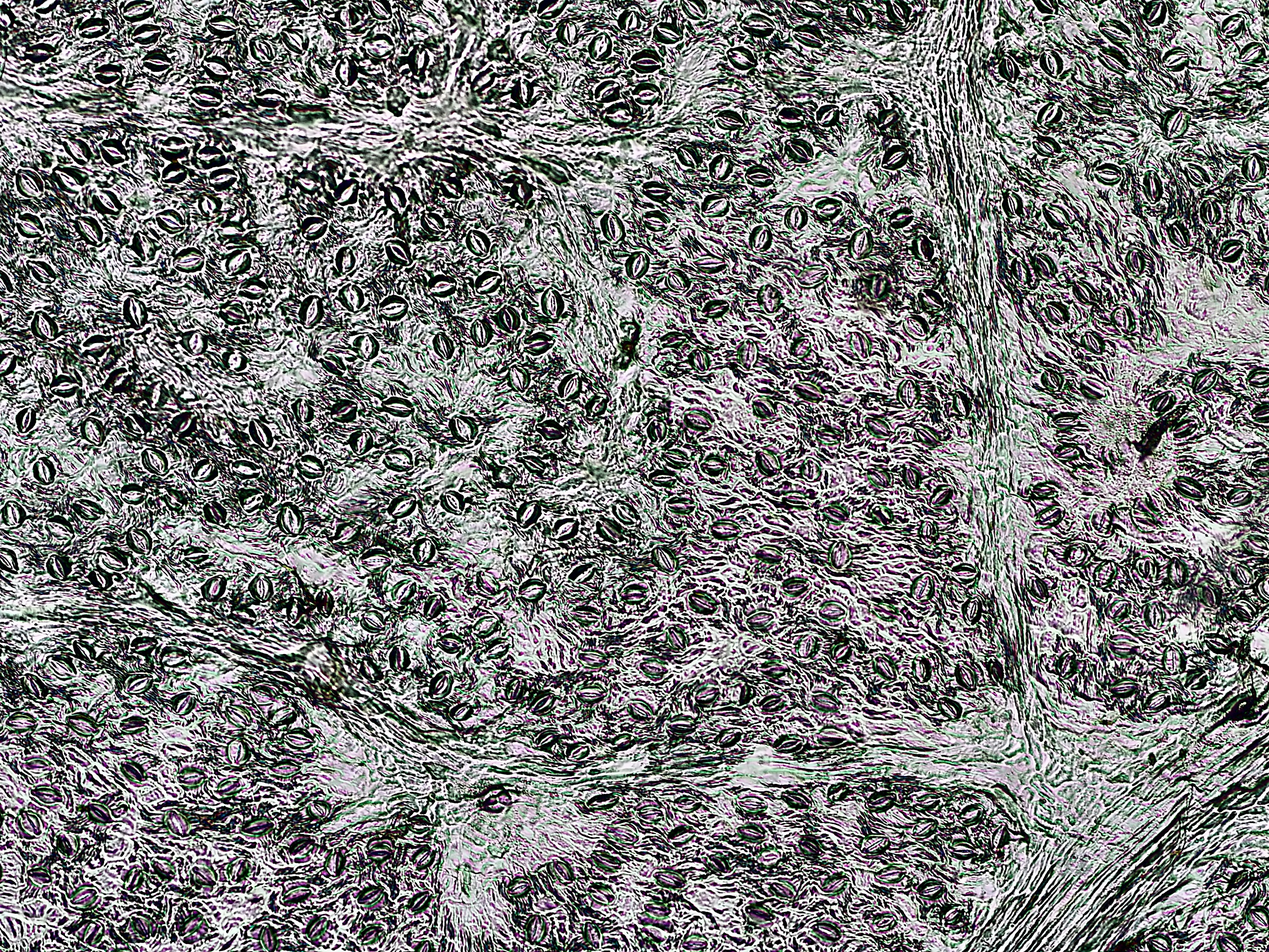stomata: (51, 164, 90, 195), (177, 914, 211, 947), (1171, 472, 1207, 503), (15, 167, 47, 200), (73, 214, 104, 248), (129, 229, 160, 262), (1096, 18, 1135, 44), (89, 61, 128, 87), (169, 246, 205, 274), (1023, 573, 1054, 605), (97, 137, 130, 167), (122, 297, 151, 331), (276, 500, 304, 535), (296, 294, 323, 330), (627, 48, 663, 75), (1142, 309, 1168, 346), (1096, 48, 1133, 74), (1041, 201, 1072, 232), (738, 13, 778, 37), (140, 447, 172, 477), (23, 256, 56, 285), (1227, 192, 1254, 227), (357, 548, 393, 574), (95, 545, 131, 571), (755, 282, 786, 312), (383, 239, 415, 268), (15, 211, 47, 240), (790, 380, 827, 405), (790, 25, 827, 50), (30, 308, 57, 342), (187, 85, 225, 109), (77, 334, 115, 358), (587, 848, 625, 872), (1107, 632, 1143, 657), (45, 654, 81, 679), (66, 885, 102, 910), (1161, 108, 1190, 139), (1182, 161, 1213, 190), (217, 300, 250, 327), (848, 227, 873, 262), (1140, 169, 1165, 204), (157, 136, 192, 161), (280, 26, 310, 55), (330, 177, 360, 206), (125, 525, 154, 555), (1223, 867, 1253, 896), (464, 228, 492, 259), (878, 144, 909, 172), (125, 911, 153, 942), (337, 282, 364, 314), (884, 0, 916, 27), (61, 136, 93, 163), (48, 373, 84, 397), (865, 788, 897, 815), (690, 252, 727, 275), (199, 55, 236, 78), (1200, 630, 1234, 655), (0, 498, 28, 528), (64, 712, 99, 736), (426, 669, 453, 700), (599, 211, 626, 242), (91, 189, 122, 216), (19, 673, 50, 700), (28, 785, 66, 807), (535, 418, 567, 444), (293, 454, 325, 480), (42, 515, 74, 541), (568, 604, 604, 627), (203, 16, 239, 39), (870, 600, 903, 625), (381, 448, 414, 473), (377, 295, 410, 320), (383, 184, 408, 217), (153, 209, 186, 234), (844, 330, 872, 359), (170, 412, 199, 440), (650, 544, 677, 574), (895, 379, 922, 409), (1240, 152, 1266, 183), (783, 137, 814, 163), (69, 497, 104, 520), (262, 666, 297, 689), (780, 788, 815, 811), (331, 519, 363, 544), (362, 34, 394, 59), (804, 921, 844, 941), (77, 18, 113, 40), (280, 882, 313, 906), (354, 883, 387, 907), (596, 517, 624, 545), (1191, 367, 1219, 395), (357, 655, 384, 684), (103, 367, 132, 394), (164, 808, 191, 837), (541, 288, 564, 322), (725, 47, 759, 70), (120, 673, 154, 696), (625, 250, 651, 280), (814, 195, 844, 221), (699, 191, 729, 217), (1165, 220, 1191, 250), (332, 56, 358, 86), (1032, 251, 1057, 282), (1160, 644, 1185, 675), (811, 425, 846, 447), (629, 83, 664, 105), (205, 167, 240, 189), (194, 145, 229, 167), (139, 51, 174, 73), (610, 499, 642, 523), (1158, 47, 1190, 71), (14, 752, 52, 772), (380, 395, 413, 418), (795, 264, 828, 287), (753, 449, 781, 476), (813, 726, 849, 747), (1038, 49, 1065, 77), (845, 1, 873, 28), (248, 35, 276, 62), (300, 215, 328, 242), (225, 248, 253, 275), (180, 329, 207, 357), (226, 857, 253, 885), (0, 913, 27, 941), (514, 499, 540, 528), (449, 415, 478, 441), (81, 416, 107, 445), (45, 552, 71, 581), (828, 540, 853, 570), (237, 278, 271, 300), (121, 0, 155, 22), (865, 271, 889, 302), (249, 89, 286, 109), (497, 303, 520, 335), (425, 274, 457, 297), (316, 354, 348, 377), (639, 179, 671, 202), (1142, 689, 1174, 712), (1030, 135, 1062, 158), (283, 724, 315, 747), (856, 833, 891, 854), (908, 573, 935, 600), (124, 412, 152, 438), (810, 690, 843, 712), (682, 410, 715, 432), (408, 44, 430, 77), (438, 490, 467, 515), (236, 488, 265, 513), (917, 287, 946, 312), (673, 144, 702, 169), (202, 573, 227, 602), (581, 920, 606, 949), (789, 0, 827, 19), (129, 25, 165, 45), (2, 712, 38, 732), (1214, 931, 1248, 952), (864, 467, 895, 490), (734, 338, 757, 369), (997, 53, 1020, 84), (652, 22, 683, 45), (266, 705, 297, 728), (602, 104, 634, 126), (247, 574, 273, 601), (353, 334, 379, 361), (1071, 279, 1098, 305), (1140, 0, 1167, 26), (31, 458, 57, 485), (16, 810, 43, 836), (121, 866, 148, 892), (1031, 505, 1066, 525), (1087, 506, 1112, 534), (1000, 190, 1025, 218), (143, 381, 168, 409), (13, 406, 38, 434), (116, 714, 151, 734), (954, 661, 978, 690), (936, 696, 965, 720), (249, 417, 273, 446), (418, 212, 447, 236), (1237, 41, 1266, 65), (86, 801, 115, 825), (709, 519, 742, 540), (743, 164, 776, 185), (0, 544, 21, 577), (653, 869, 686, 890), (910, 653, 933, 683), (517, 578, 547, 601), (291, 170, 321, 193), (334, 246, 356, 277), (863, 416, 894, 438), (1009, 255, 1031, 286), (664, 495, 698, 515), (230, 459, 264, 479), (1027, 480, 1061, 500), (1208, 82, 1242, 102), (22, 43, 56, 63), (267, 758, 301, 778), (733, 794, 767, 814), (707, 155, 733, 181), (1081, 330, 1107, 356), (871, 654, 898, 679), (432, 333, 457, 360), (202, 501, 229, 526), (750, 397, 777, 422), (902, 314, 929, 339), (1227, 560, 1252, 587), (1244, 532, 1269, 559), (468, 68, 495, 93), (619, 580, 647, 604), (527, 691, 555, 715), (190, 459, 218, 483), (747, 224, 771, 252), (784, 204, 808, 232), (911, 234, 935, 262), (1043, 300, 1067, 328), (1065, 540, 1089, 568), (713, 110, 745, 131), (588, 32, 612, 60), (227, 736, 251, 764), (937, 903, 965, 927), (818, 600, 847, 623), (1215, 239, 1244, 262), (1227, 599, 1256, 622), (248, 683, 277, 706), (55, 830, 78, 859), (288, 835, 317, 858), (535, 0, 570, 19), (640, 898, 675, 917), (771, 733, 804, 753), (567, 561, 597, 583), (386, 494, 416, 516), (512, 74, 532, 107), (606, 824, 639, 844), (775, 108, 806, 129), (914, 878, 945, 899), (959, 597, 984, 623), (304, 914, 329, 940), (557, 372, 581, 399), (360, 609, 387, 633), (224, 705, 251, 729), (411, 844, 435, 871), (871, 864, 907, 882), (551, 517, 579, 540), (509, 178, 532, 206), (913, 425, 941, 448), (887, 206, 915, 229), (592, 80, 620, 103), (555, 19, 578, 47), (117, 759, 145, 782), (257, 924, 280, 952), (687, 594, 719, 614), (744, 904, 776, 924), (713, 727, 742, 749), (641, 210, 670, 232), (1113, 304, 1135, 333), (1143, 601, 1165, 630), (1055, 651, 1077, 680), (523, 914, 545, 943), (757, 660, 792, 678), (666, 715, 696, 736), (522, 333, 552, 354), (952, 389, 973, 419), (681, 0, 711, 21), (212, 776, 242, 797), (820, 873, 850, 894), (160, 737, 195, 755), (572, 684, 605, 703), (240, 816, 273, 835), (411, 537, 436, 562), (474, 570, 499, 595), (346, 429, 371, 454), (959, 802, 984, 827), (550, 859, 575, 884), (390, 578, 416, 602), (1092, 562, 1116, 588), (616, 9, 640, 35), (798, 456, 821, 483), (645, 416, 668, 443), (1199, 198, 1222, 225), (1246, 903, 1269, 930), (1091, 163, 1122, 183), (405, 814, 436, 834), (501, 877, 532, 897), (329, 399, 357, 421), (481, 638, 509, 660), (1079, 376, 1107, 398), (1165, 558, 1187, 586), (1034, 102, 1062, 124), (948, 841, 982, 859), (699, 455, 728, 476), (324, 847, 345, 876), (576, 650, 608, 669), (757, 694, 787, 714), (868, 502, 892, 527), (290, 398, 314, 423), (1040, 367, 1064, 392), (334, 5, 359, 29), (768, 878, 798, 898), (586, 884, 616, 904), (82, 922, 107, 946), (665, 625, 688, 651), (1101, 448, 1127, 471), (1220, 14, 1246, 37), (1196, 583, 1222, 606), (1135, 557, 1158, 583), (218, 220, 244, 243), (1150, 391, 1177, 413), (1171, 418, 1198, 440), (1103, 598, 1130, 620), (161, 163, 188, 185), (181, 545, 208, 567), (699, 299, 730, 318), (672, 793, 703, 812), (313, 589, 334, 617), (474, 271, 502, 292), (1125, 247, 1146, 275), (563, 742, 591, 763), (910, 818, 938, 839), (508, 364, 528, 393), (118, 482, 147, 502), (229, 605, 258, 625), (735, 823, 769, 840), (665, 268, 689, 292), (196, 194, 220, 218), (439, 176, 464, 199), (87, 568, 112, 591), (535, 728, 560, 751), (172, 690, 195, 715), (627, 699, 653, 721), (189, 864, 215, 886), (1085, 97, 1115, 116), (175, 767, 205, 786), (821, 503, 849, 523), (918, 518, 938, 546), (365, 0, 393, 20), (365, 844, 393, 864), (778, 578, 809, 596), (1053, 441, 1084, 459), (796, 633, 819, 657), (585, 394, 608, 418), (388, 646, 412, 669), (72, 640, 96, 663), (707, 851, 731, 874), (663, 449, 692, 468), (470, 318, 489, 347), (505, 675, 524, 704), (1107, 677, 1136, 696), (423, 594, 444, 620), (874, 108, 900, 129), (357, 924, 383, 945), (754, 545, 784, 563), (285, 595, 303, 625), (1242, 367, 1269, 387), (634, 805, 664, 823), (636, 925, 664, 944), (1144, 935, 1175, 952), (306, 800, 331, 821), (796, 836, 821, 857), (215, 931, 240, 952), (668, 826, 697, 844), (690, 348, 710, 374), (162, 488, 188, 508), (610, 732, 636, 752), (985, 658, 1004, 685), (25, 866, 52, 885), (744, 609, 774, 626), (680, 935, 710, 952), (817, 104, 840, 126), (928, 484, 952, 505), (1051, 409, 1079, 427), (1225, 487, 1253, 505), (222, 347, 243, 371), (160, 647, 188, 665), (990, 825, 1008, 853), (915, 792, 943, 810), (869, 913, 900, 929), (437, 634, 464, 652), (788, 336, 811, 357), (647, 470, 677, 486), (638, 661, 668, 677), (950, 563, 980, 579), (473, 616, 497, 636), (450, 702, 474, 722), (586, 794, 620, 808), (824, 783, 850, 801), (407, 890, 430, 910), (520, 455, 547, 472), (753, 849, 780, 866), (694, 686, 719, 704), (658, 331, 686, 347), (1185, 670, 1207, 690), (832, 641, 851, 664), (730, 683, 749, 706), (0, 351, 15, 379), (130, 636, 156, 652), (151, 861, 177, 877), (904, 466, 920, 489), (743, 322, 767, 337), (1252, 456, 1269, 476), (783, 491, 807, 505), (0, 874, 20, 889), (0, 890, 16, 900)
